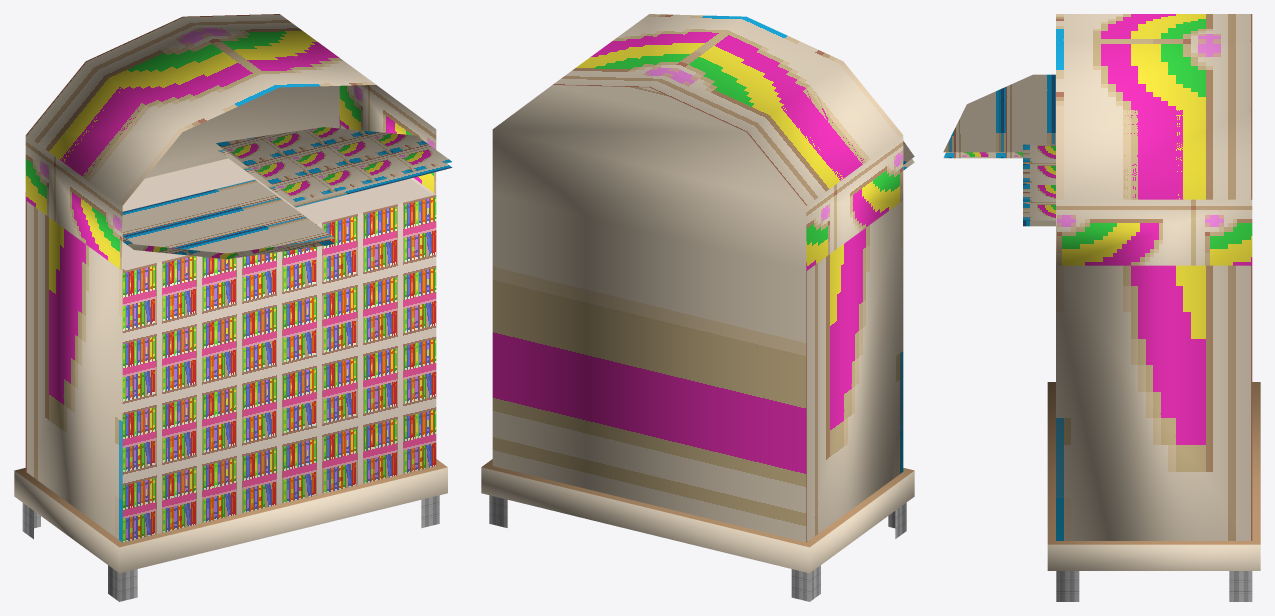
3 renders of one model, left to right at view 1: azimuth 30°, elevation 25°; view 2: azimuth 150°, elevation 25°; view 3: azimuth 270°, elevation 25°, orthographic.
Visible parts, largest first — view 1: 3722kg_sk_cl1; view 2: 3722kg_sk_cl1; view 3: 3722kg_sk_cl1.
Boxes of the visible parts, x1,y1,x2,y2 form: 3722kg_sk_cl1: (14,14,452,601); 3722kg_sk_cl1: (481,14,914,601); 3722kg_sk_cl1: (943,14,1260,601).
Size of the model in its own units: 1.44 by 2 by 1.19.
3 materials, 3 textured.
